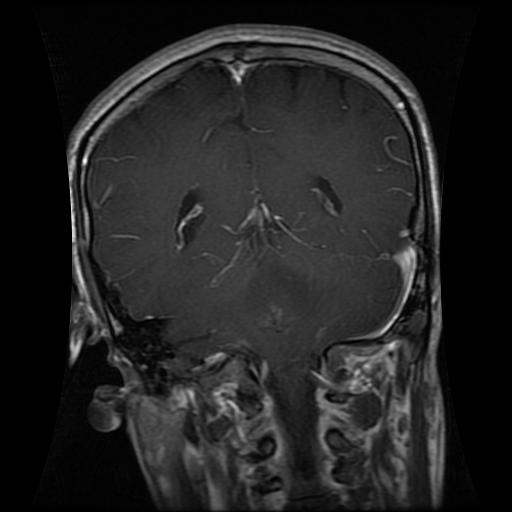Gliomia_tumour: (242, 257, 315, 332)
